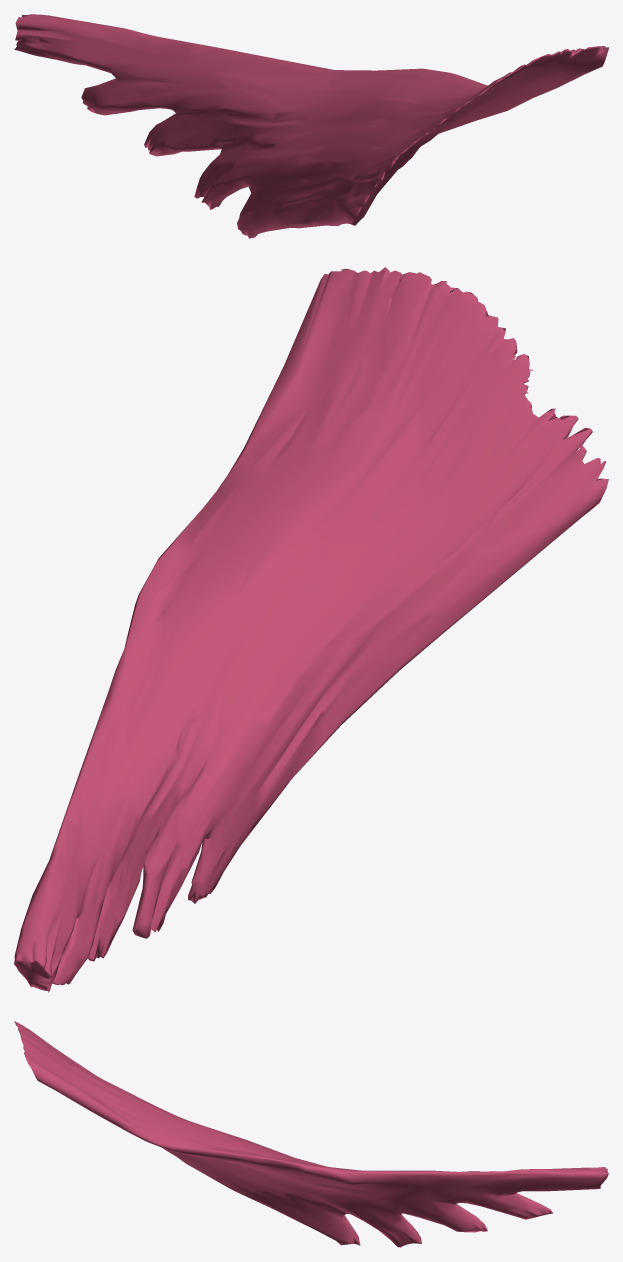
3 views of the same model, one above another, from view 1: azimuth 30°, elevation 25°; view 2: azimuth 150°, elevation 25°; view 3: azimuth 270°, elevation 25° (orthographic). The views are drawn at different scales.
Parts seen in each view (by area): view 1: 右侧头棘肌; view 2: 右侧头棘肌; view 3: 右侧头棘肌.
Boxes of the visible parts, <box> form: 右侧头棘肌: <box>14,14,608,238</box>; 右侧头棘肌: <box>14,267,608,992</box>; 右侧头棘肌: <box>14,1021,608,1247</box>.
Bounding box in the file's own units: 0.0611 × 0.0805 × 0.1828.
